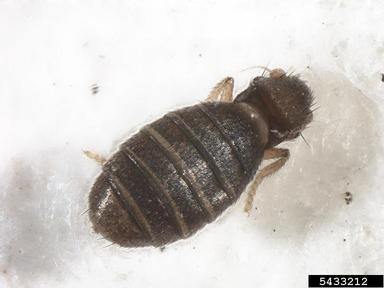phorid fly: (63, 42, 332, 263)
